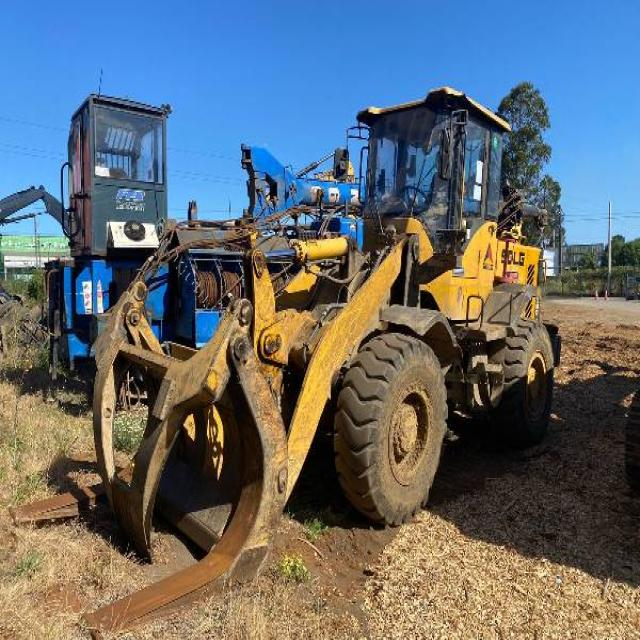buldozerpayloadergrader: (98, 76, 560, 528)
